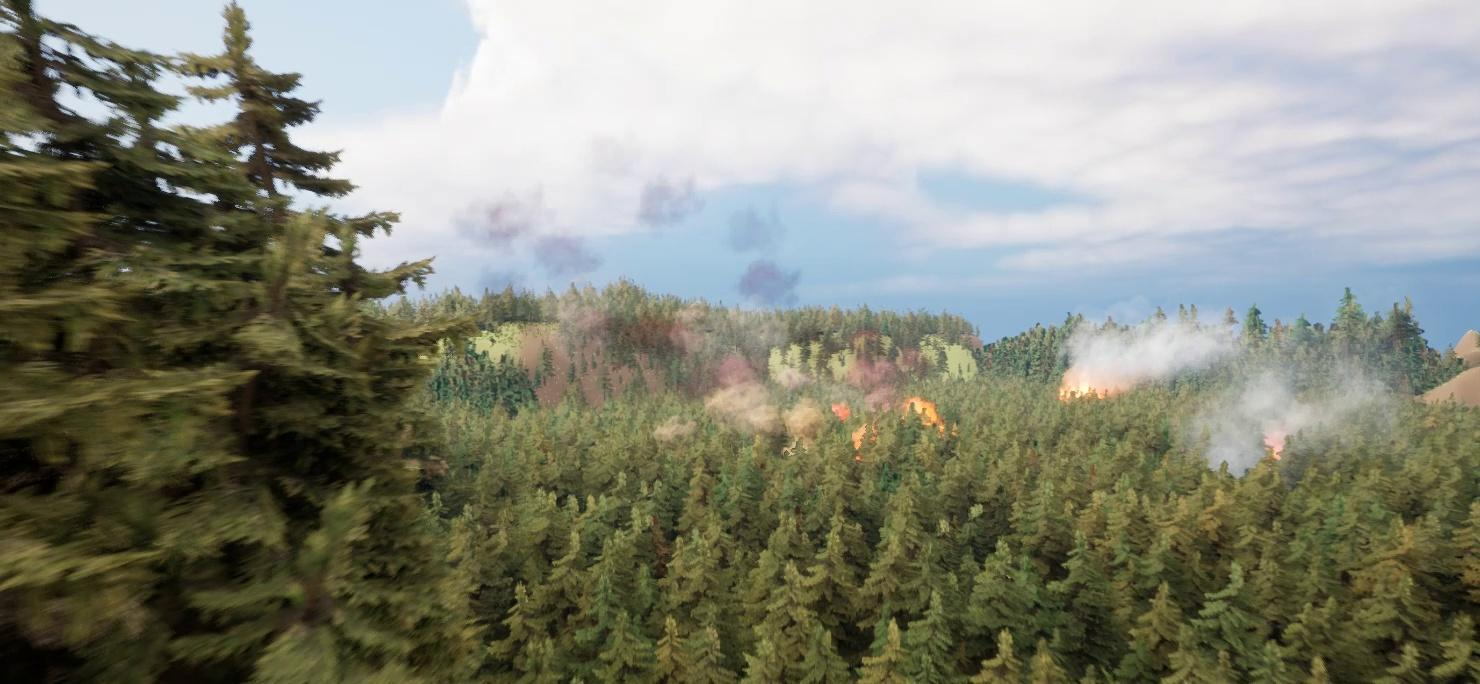fire: (847, 393, 954, 458), (1067, 373, 1121, 393)
smoke: (459, 134, 800, 422), (1188, 350, 1400, 496), (1067, 311, 1239, 388)
